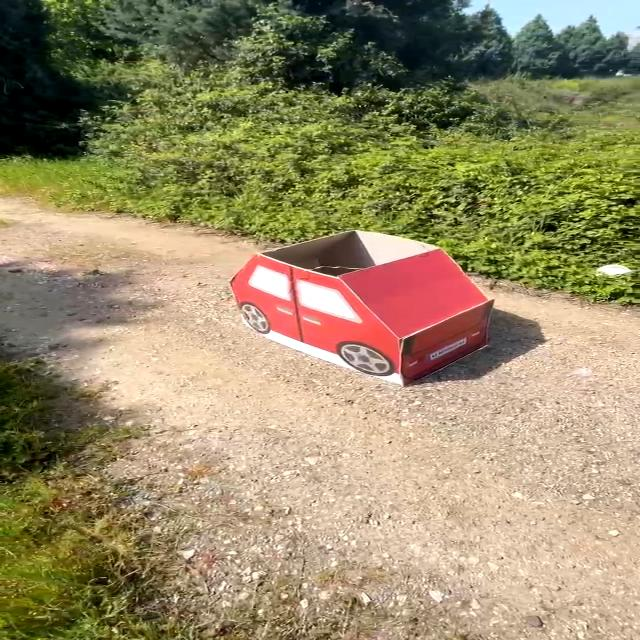red_car: (173, 226, 559, 391)
